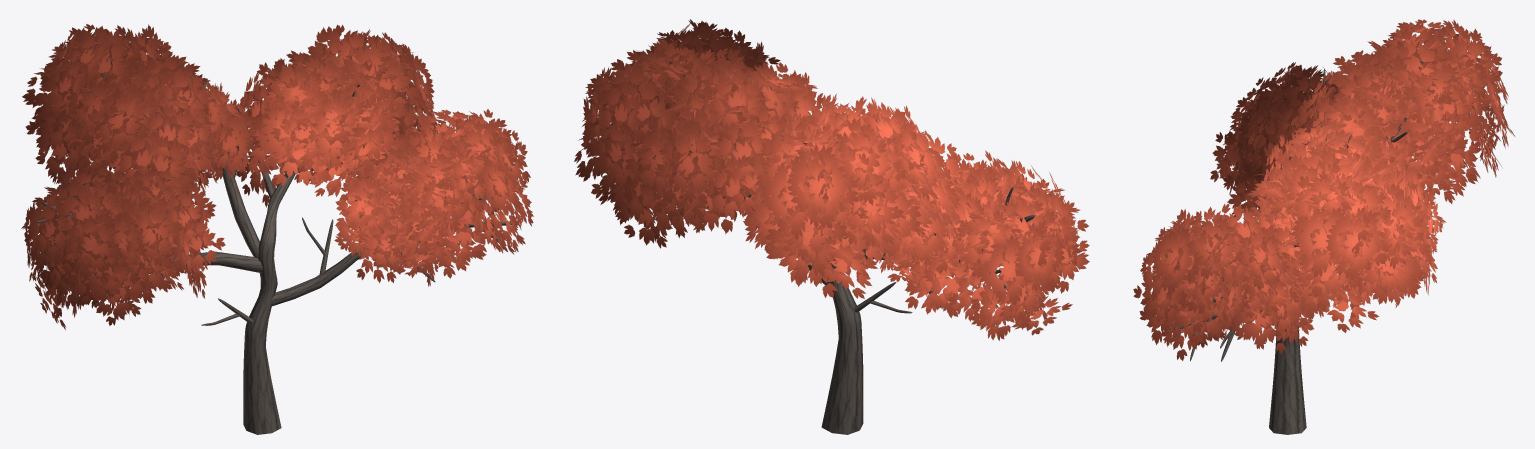
The model's file is MapleTree_3.glb.
3 views of the same model, side by side, from view 1: azimuth 30°, elevation 25°; view 2: azimuth 150°, elevation 25°; view 3: azimuth 270°, elevation 25° (orthographic). The views are drawn at different scales.
Visible parts, largest first — view 1: MapleTree_3; view 2: MapleTree_3; view 3: MapleTree_3.
Boxes of the visible parts, left/top/right/bottom form: MapleTree_3: left=21, top=24, right=533, bottom=434; MapleTree_3: left=574, top=19, right=1089, bottom=434; MapleTree_3: left=1133, top=19, right=1514, bottom=434.
Bounding box in the file's own units: 8.98 × 6.99 × 6.61.
Materials: 2 (2 with a texture image).
